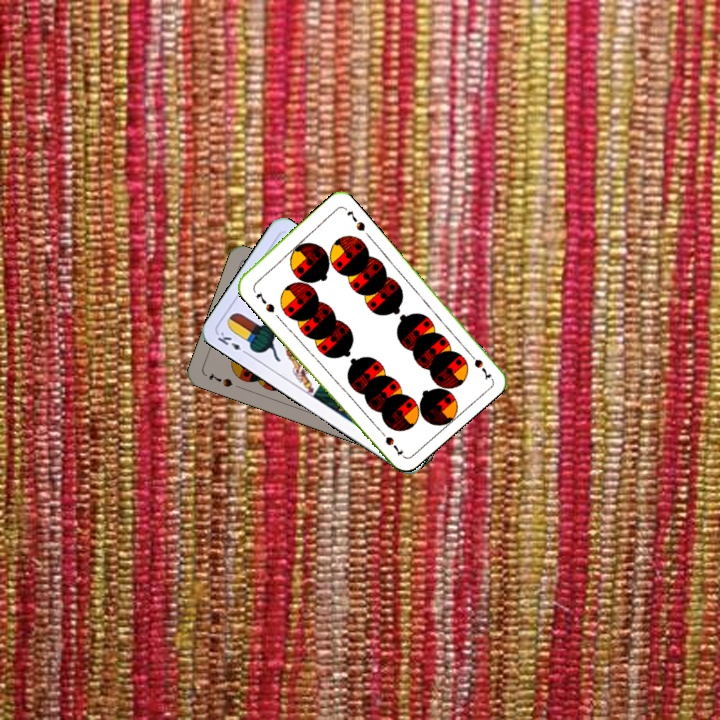EK: (213, 328, 251, 358)
S7: (463, 347, 494, 382), (251, 288, 277, 315), (205, 369, 235, 389)
